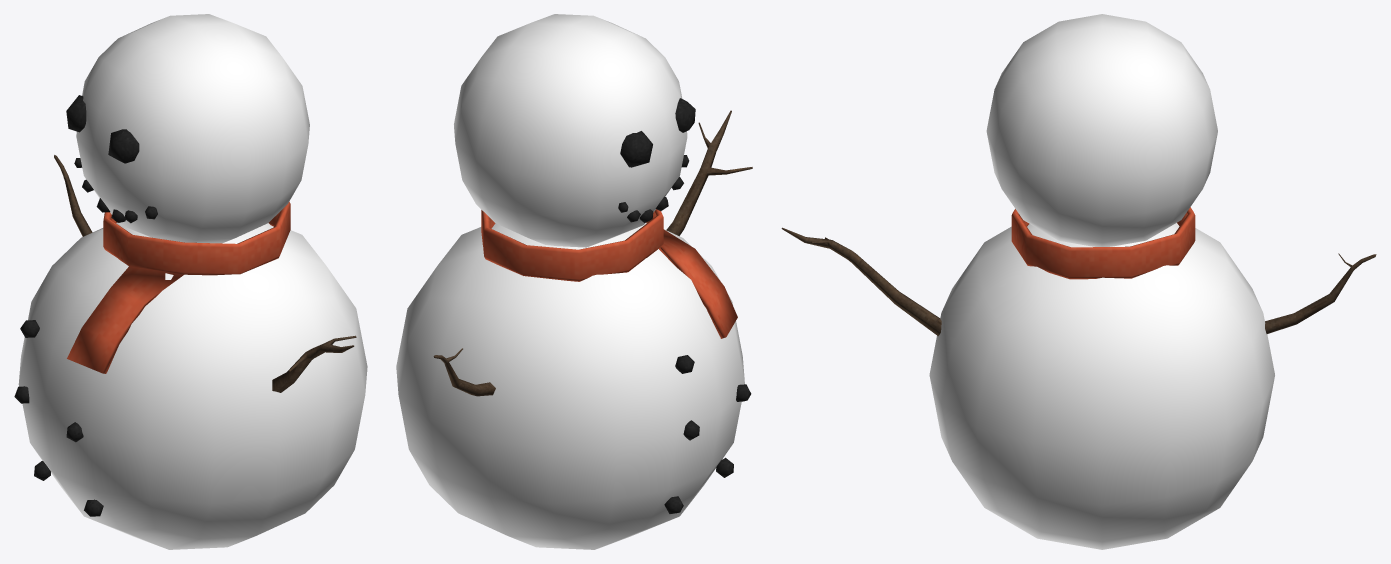
3 renders of one model, left to right at view 1: azimuth 30°, elevation 25°; view 2: azimuth 150°, elevation 25°; view 3: azimuth 270°, elevation 25°, orthographic.
Visible parts, largest first — view 1: sm_03_body, sm_03_head, sm_03_muffler, sm_03_eyes, sm_03_wood, sm_03_button; view 2: sm_03_body, sm_03_head, sm_03_muffler, sm_03_wood, sm_03_eyes, sm_03_button; view 3: sm_03_body, sm_03_head, sm_03_muffler, sm_03_wood.
Part boxes in pixels (x1,y1,x2,y2): sm_03_body: (18, 222, 367, 549); sm_03_head: (76, 14, 309, 243); sm_03_muffler: (67, 201, 290, 373); sm_03_eyes: (66, 95, 157, 223); sm_03_wood: (54, 155, 356, 392); sm_03_button: (14, 320, 103, 516); sm_03_body: (396, 223, 744, 549); sm_03_head: (454, 14, 687, 247); sm_03_muffler: (481, 209, 737, 338); sm_03_wood: (433, 110, 752, 396); sm_03_eyes: (618, 98, 695, 223); sm_03_button: (664, 355, 751, 513); sm_03_body: (929, 223, 1274, 549); sm_03_head: (986, 14, 1217, 246); sm_03_muffler: (1011, 207, 1195, 279); sm_03_wood: (781, 227, 1376, 336).
Size of the model in its own units: 216 by 369 by 346.
